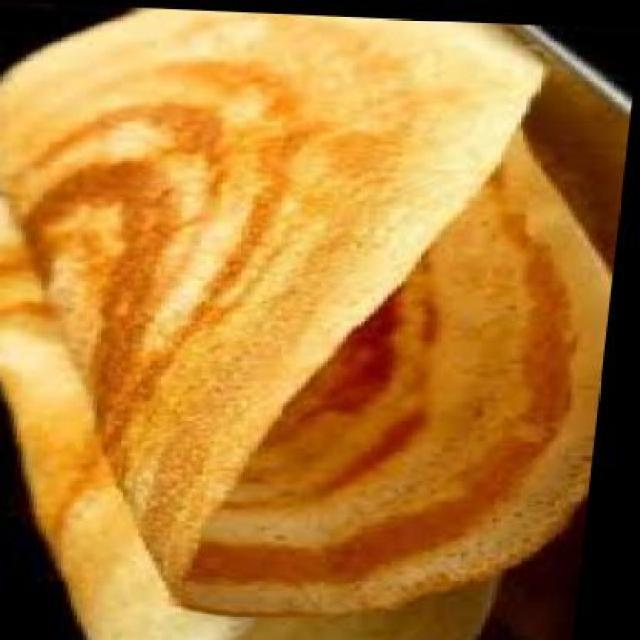dosa: (0, 0, 640, 625), (0, 194, 542, 640)
